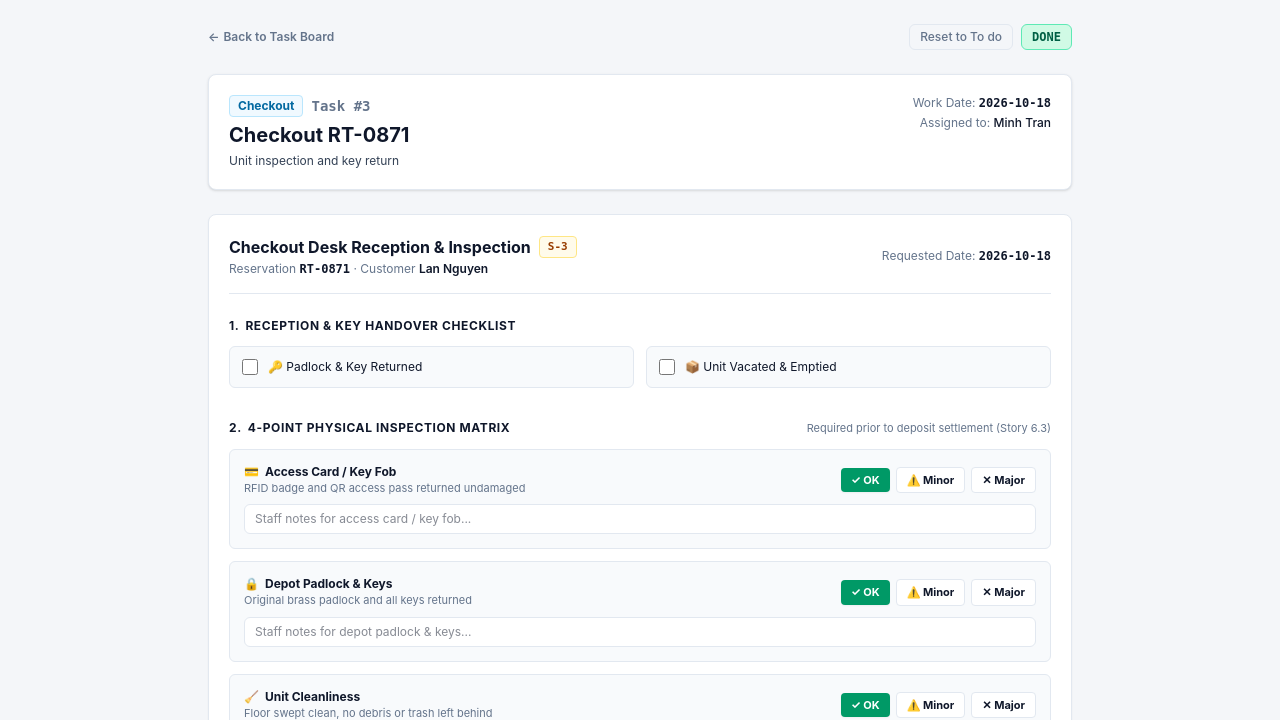
Scenario: Story 6.2: Checkout Task — Nhận kho & 4-Point Inspection › flags MAJOR damage dynamically with warning banner and saves inspection findings
// Check key handover
Click the checkbox with test id "key-returned-checkbox" at (250, 367), box [242,359,258,375]
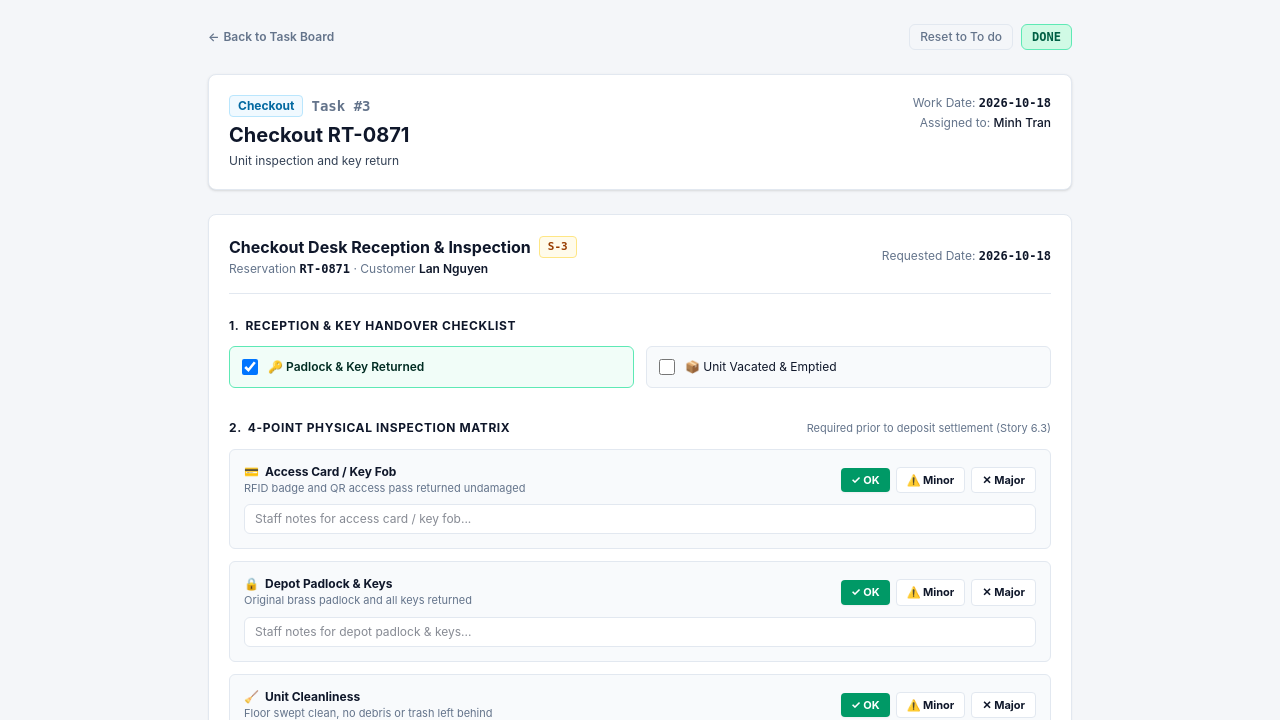
Click the checkbox with test id "unit-emptied-checkbox" at (667, 367), box [659,359,675,375]
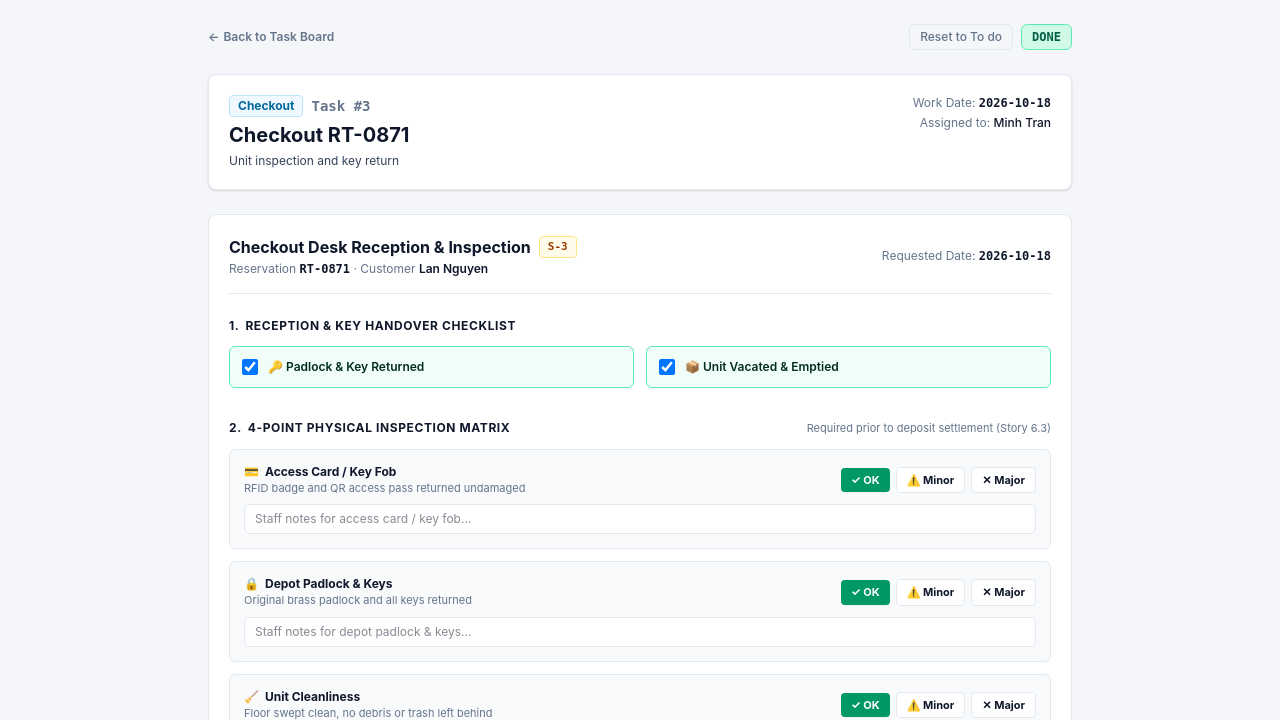
// Mark PADLOCK as MAJOR
Click the button with test id "btn-padlock-major" at (1004, 592), box [971,579,1036,606]
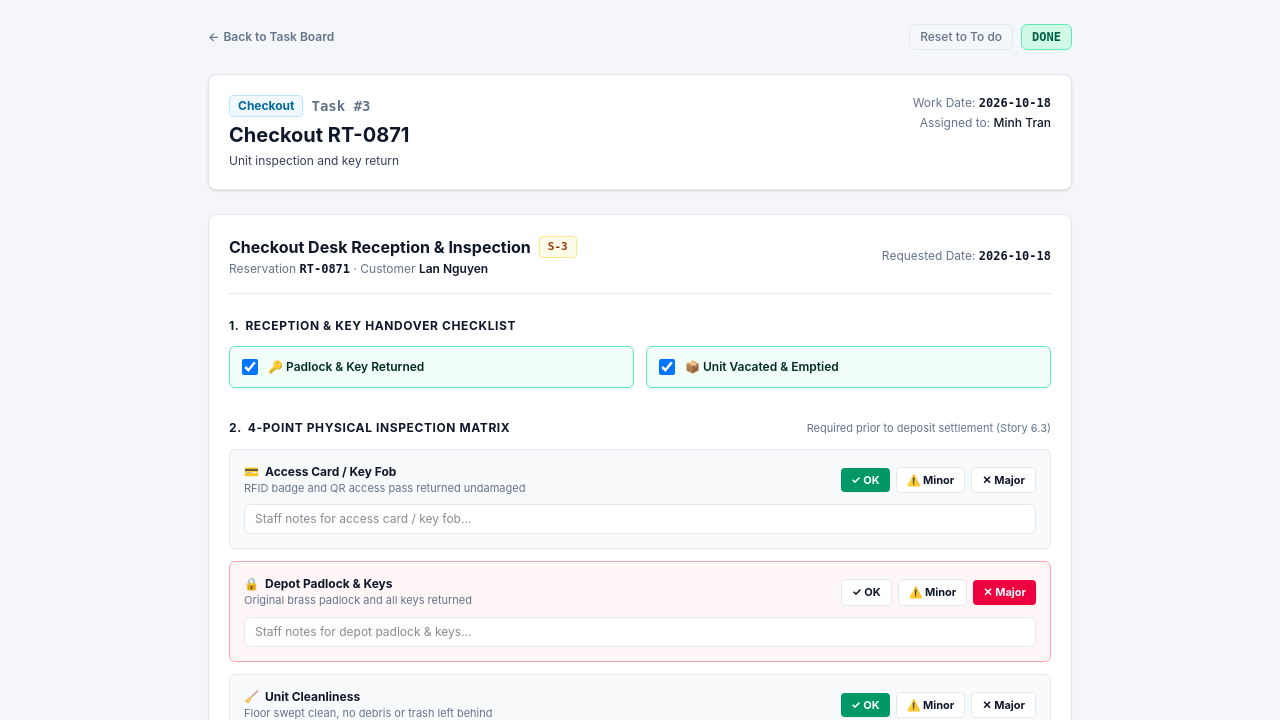
// Add note for padlock
Type "Padlock broken key" into the field with test id "input-note-padlock" at (640, 632), box [244,616,1036,646]
(page scrolled)
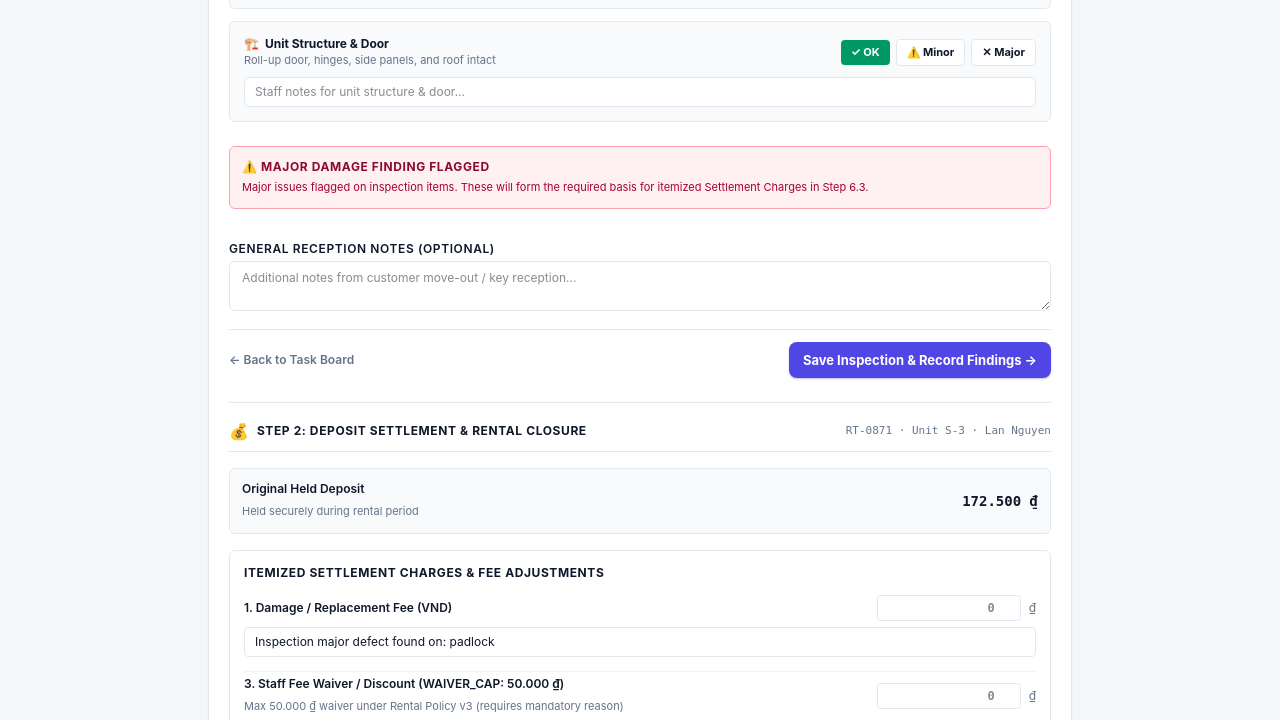
// Submit inspection
Click the button with test id "submit-inspection-btn" at (920, 360), box [789,342,1051,378]
(page scrolled)
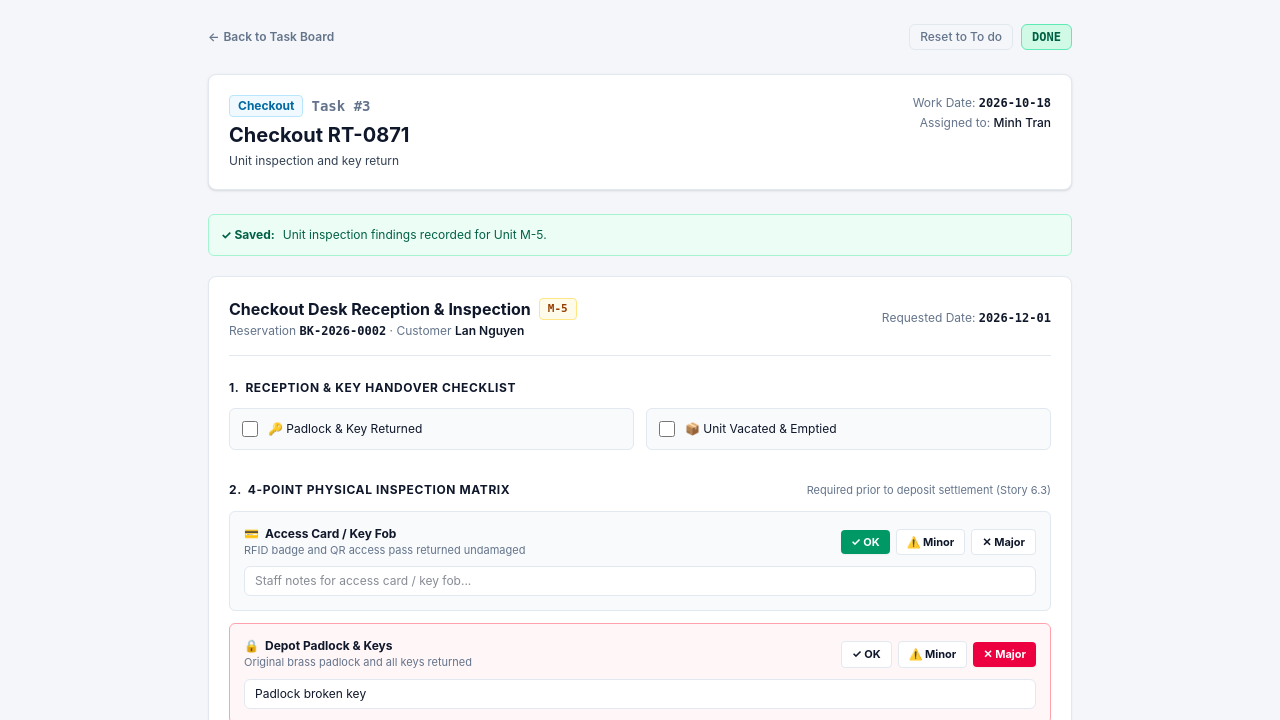
Expected: the element with test id "inspection-success-banner" is shown, [208,214,1072,256]
Expected: the text "Unit inspection findings recorded for Unit M-5." is shown, [283,227,547,243]
